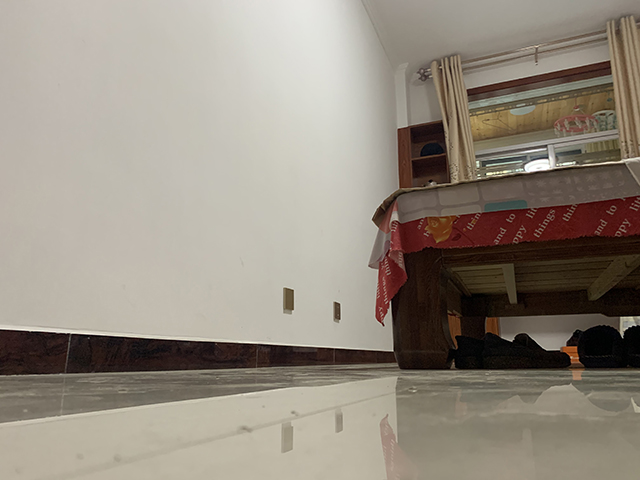bed: (366, 158, 640, 371)
curtain: (432, 50, 476, 179), (602, 15, 640, 157)
slippers: (576, 323, 626, 371)
